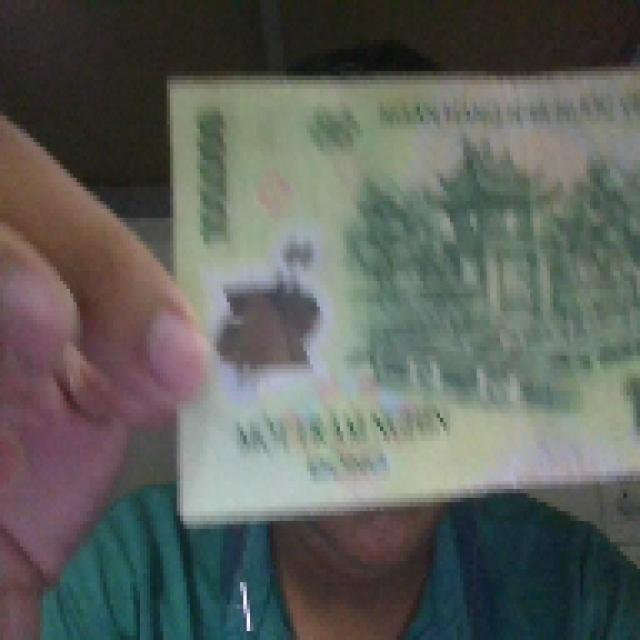100 000 VND: (157, 61, 634, 532)
